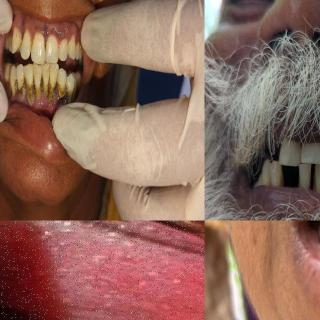Gum Swelling: (12, 95, 66, 114)
calculus: (307, 174, 320, 197), (58, 82, 66, 111), (15, 25, 27, 42), (18, 79, 26, 102), (27, 83, 35, 105), (50, 81, 56, 107), (42, 78, 50, 97), (35, 78, 42, 99), (12, 77, 18, 94)
maligned: (10, 23, 24, 57), (65, 71, 77, 103), (18, 34, 32, 61)
plaque: (28, 39, 36, 54), (64, 40, 72, 54), (56, 45, 61, 57)
